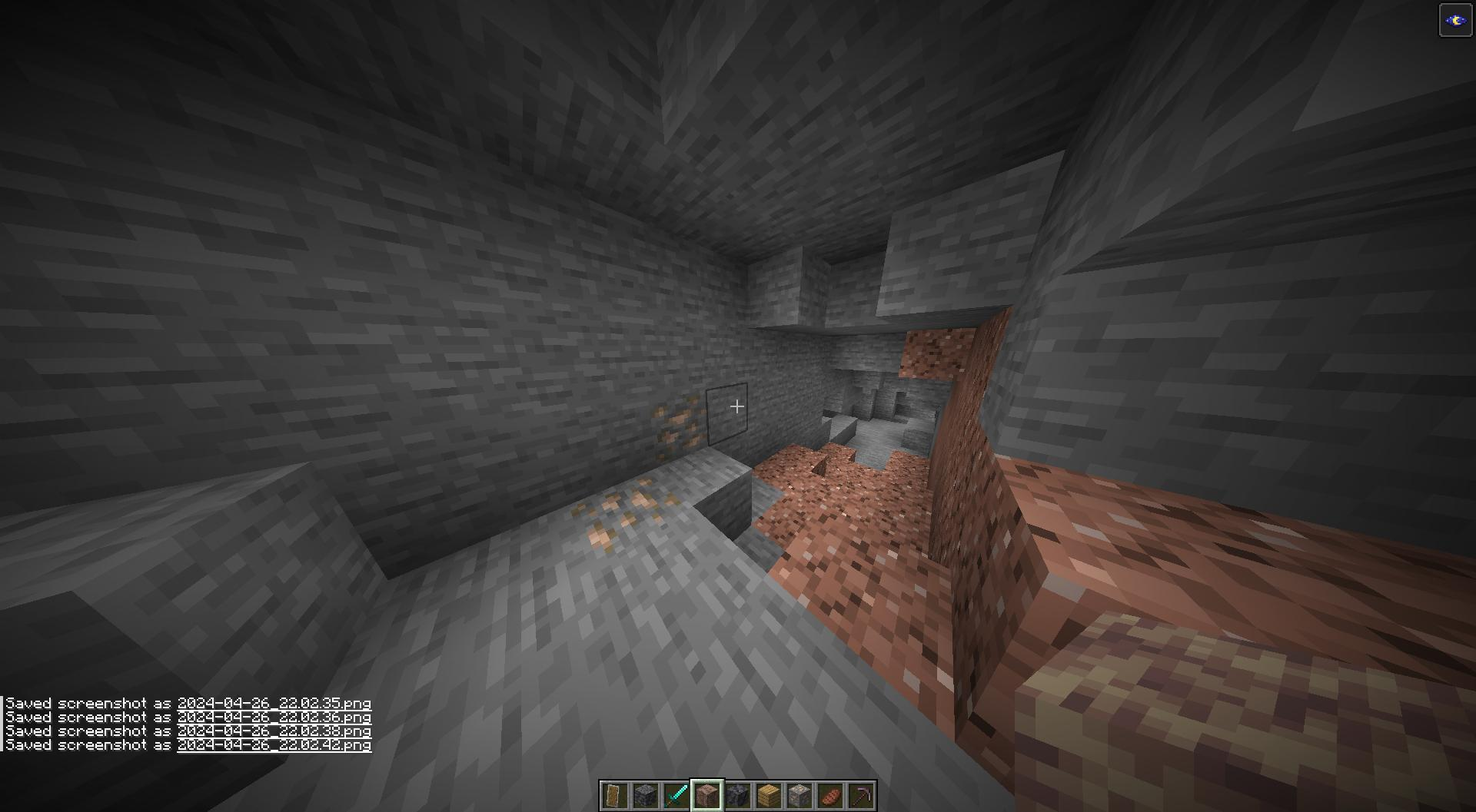iron ore: (578, 474, 686, 554), (655, 388, 709, 457)
